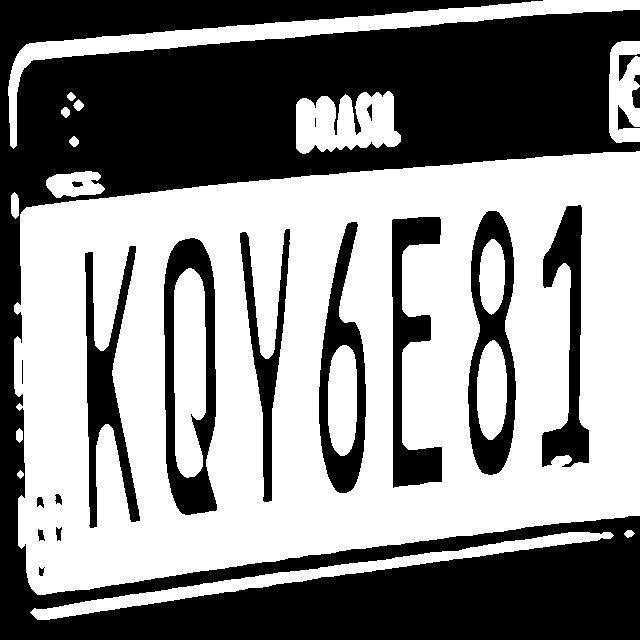1: (528, 205, 608, 472)
6: (308, 217, 381, 503)
8: (461, 205, 526, 484)
e: (380, 209, 460, 503)
k: (72, 238, 154, 537)
q: (155, 233, 235, 528)
y: (231, 224, 302, 512)
